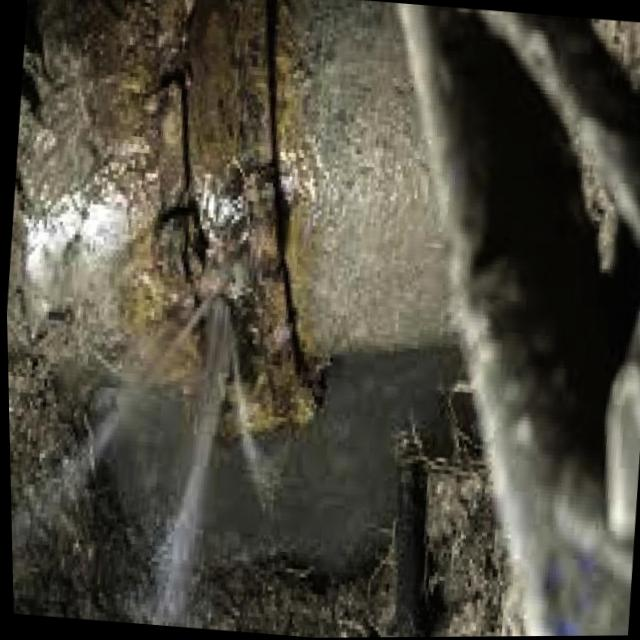leak: (11, 289, 319, 628)
